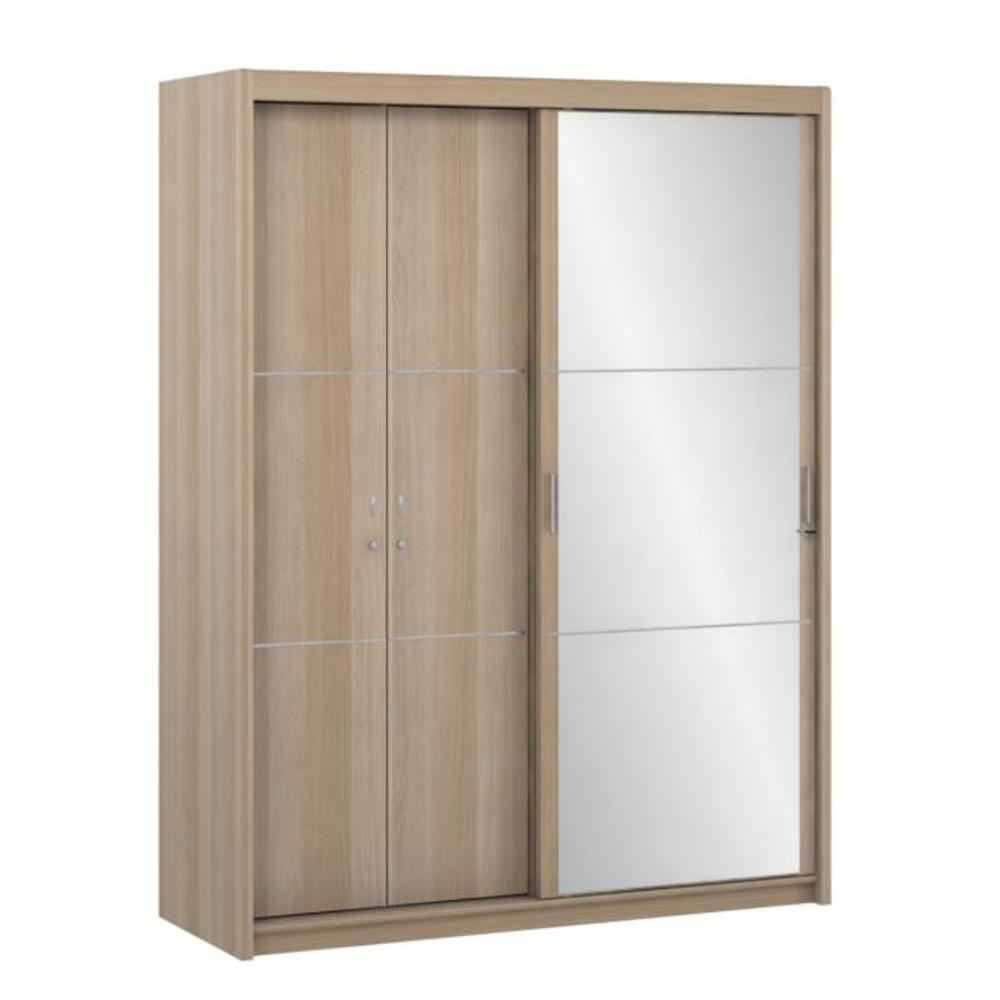cabinet: (161, 65, 838, 966)
